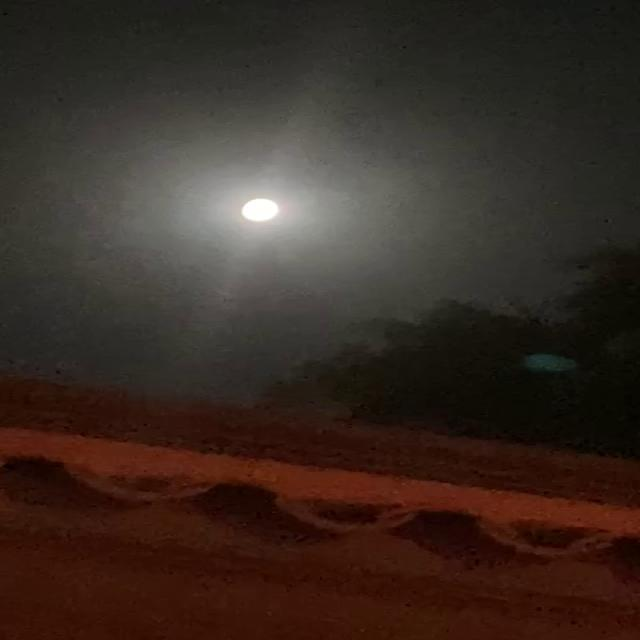moon: (239, 203, 298, 242)
